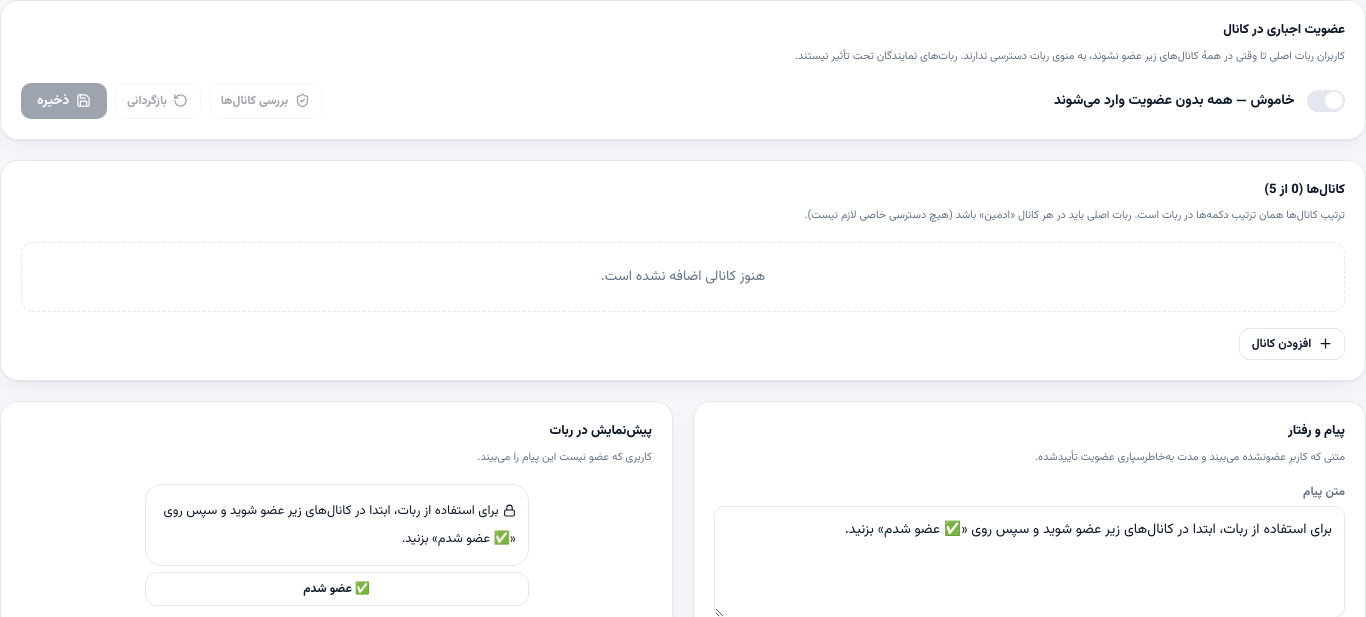
Scenario: admin channel join (عضویت اجباری کانال) › shows the server refusal instead of a generic error
Expected: the heading "عضویت اجباری در کانال" is shown, [1223,20,1345,40]
Click the button "افزودن کانال": (1292, 344) [1240,328,1345,360]
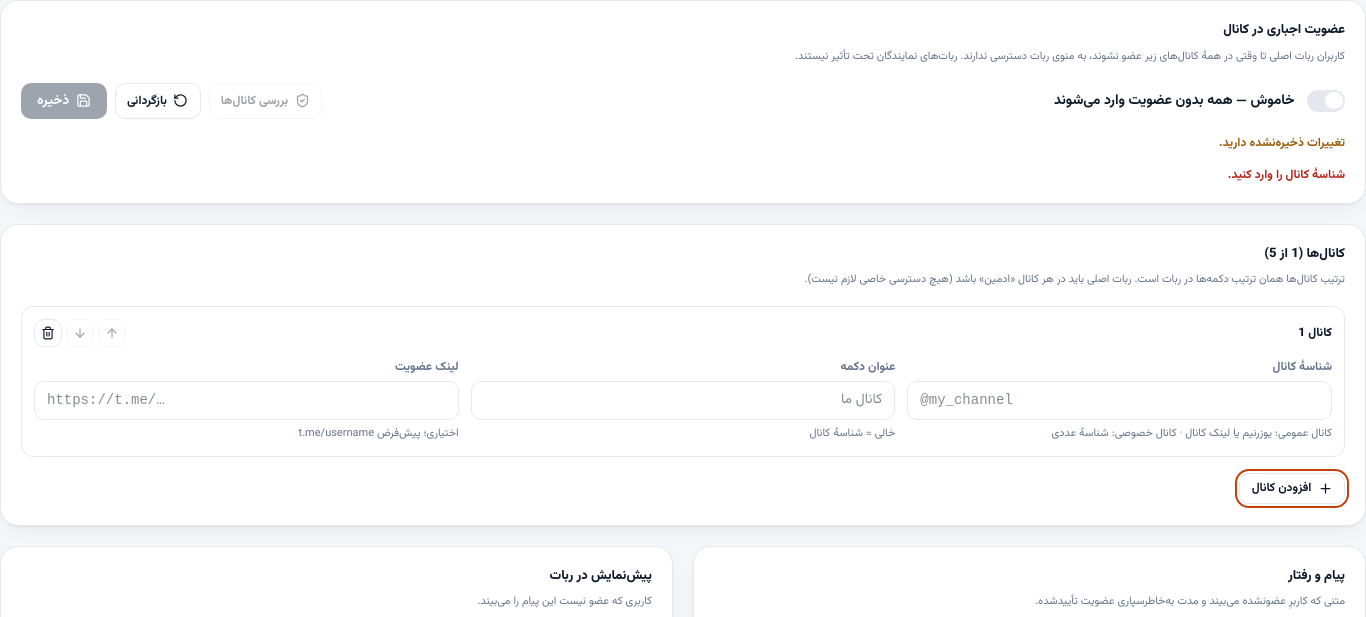
In the field with placeholder "@my_channel": (1120, 401) [907,381,1332,420], type "@melorin_news"
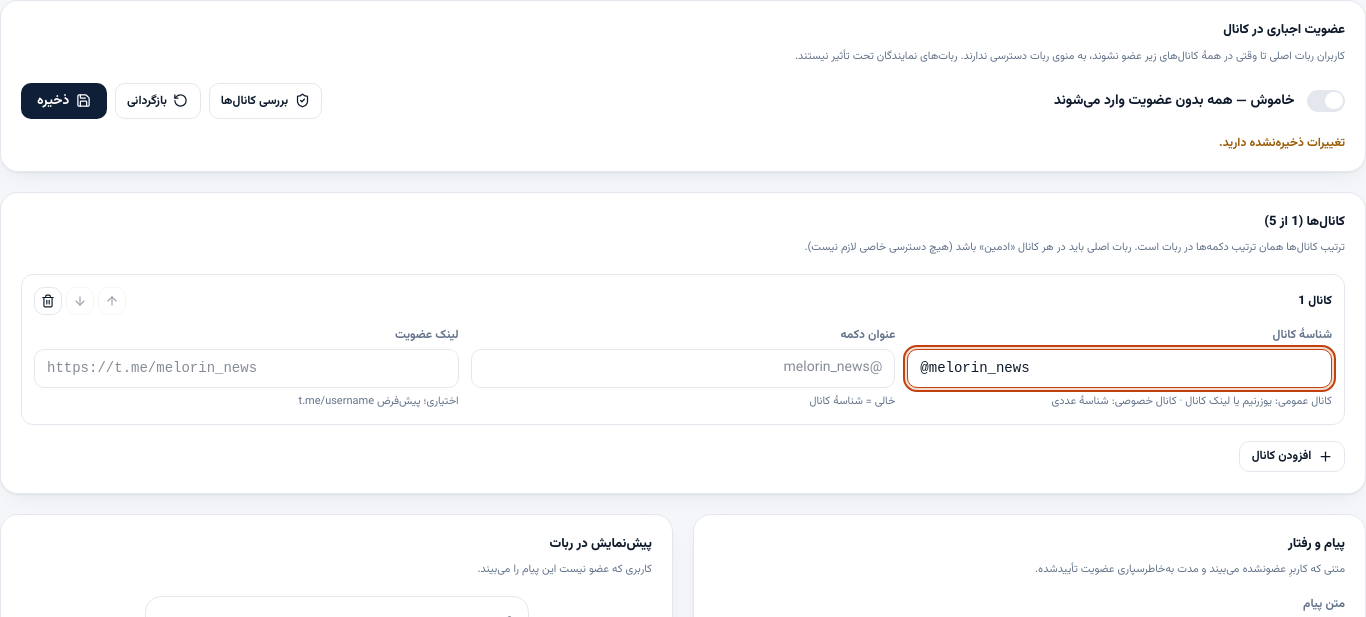
Click the button "بررسی کانال‌ها": (265, 101) [208,82,322,119]
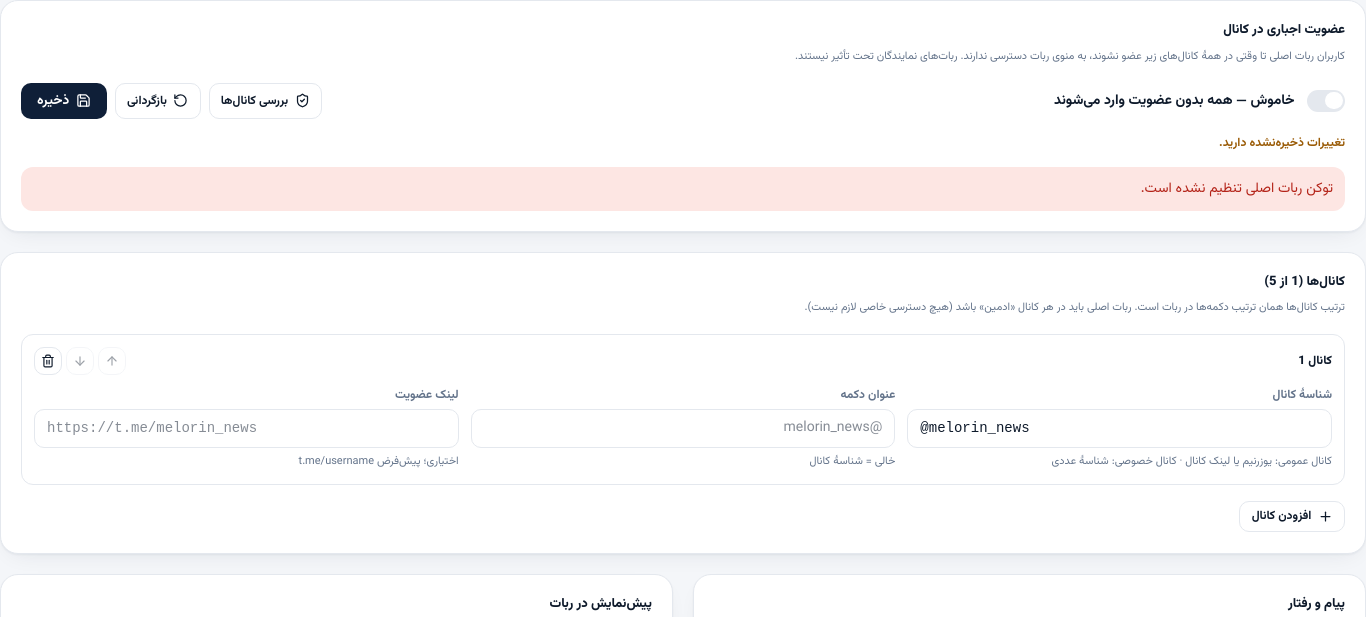
Expected: the text "توکن ربات اصلی تنظیم نشده است." is shown, [21,167,1345,211]
